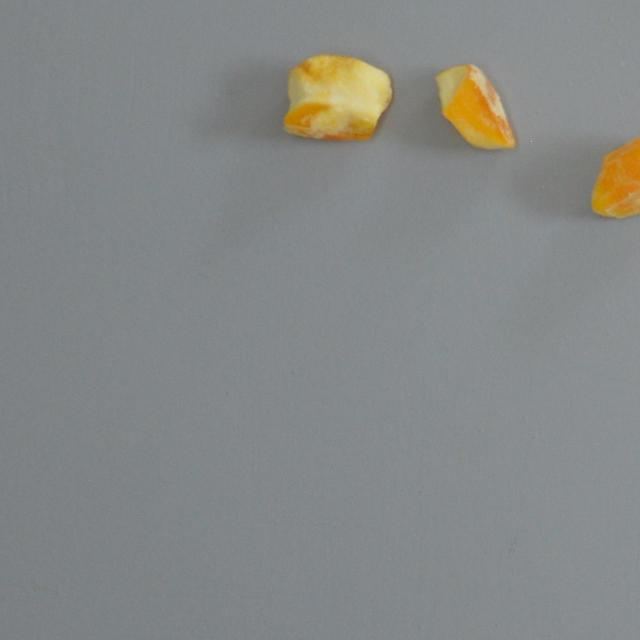pelicula: (282, 53, 392, 141), (430, 60, 516, 156), (588, 130, 640, 220)
